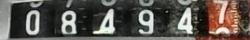digits: (94, 6, 118, 36), (176, 6, 195, 35), (210, 0, 230, 26), (137, 9, 155, 37), (25, 9, 40, 35), (61, 10, 77, 34)
